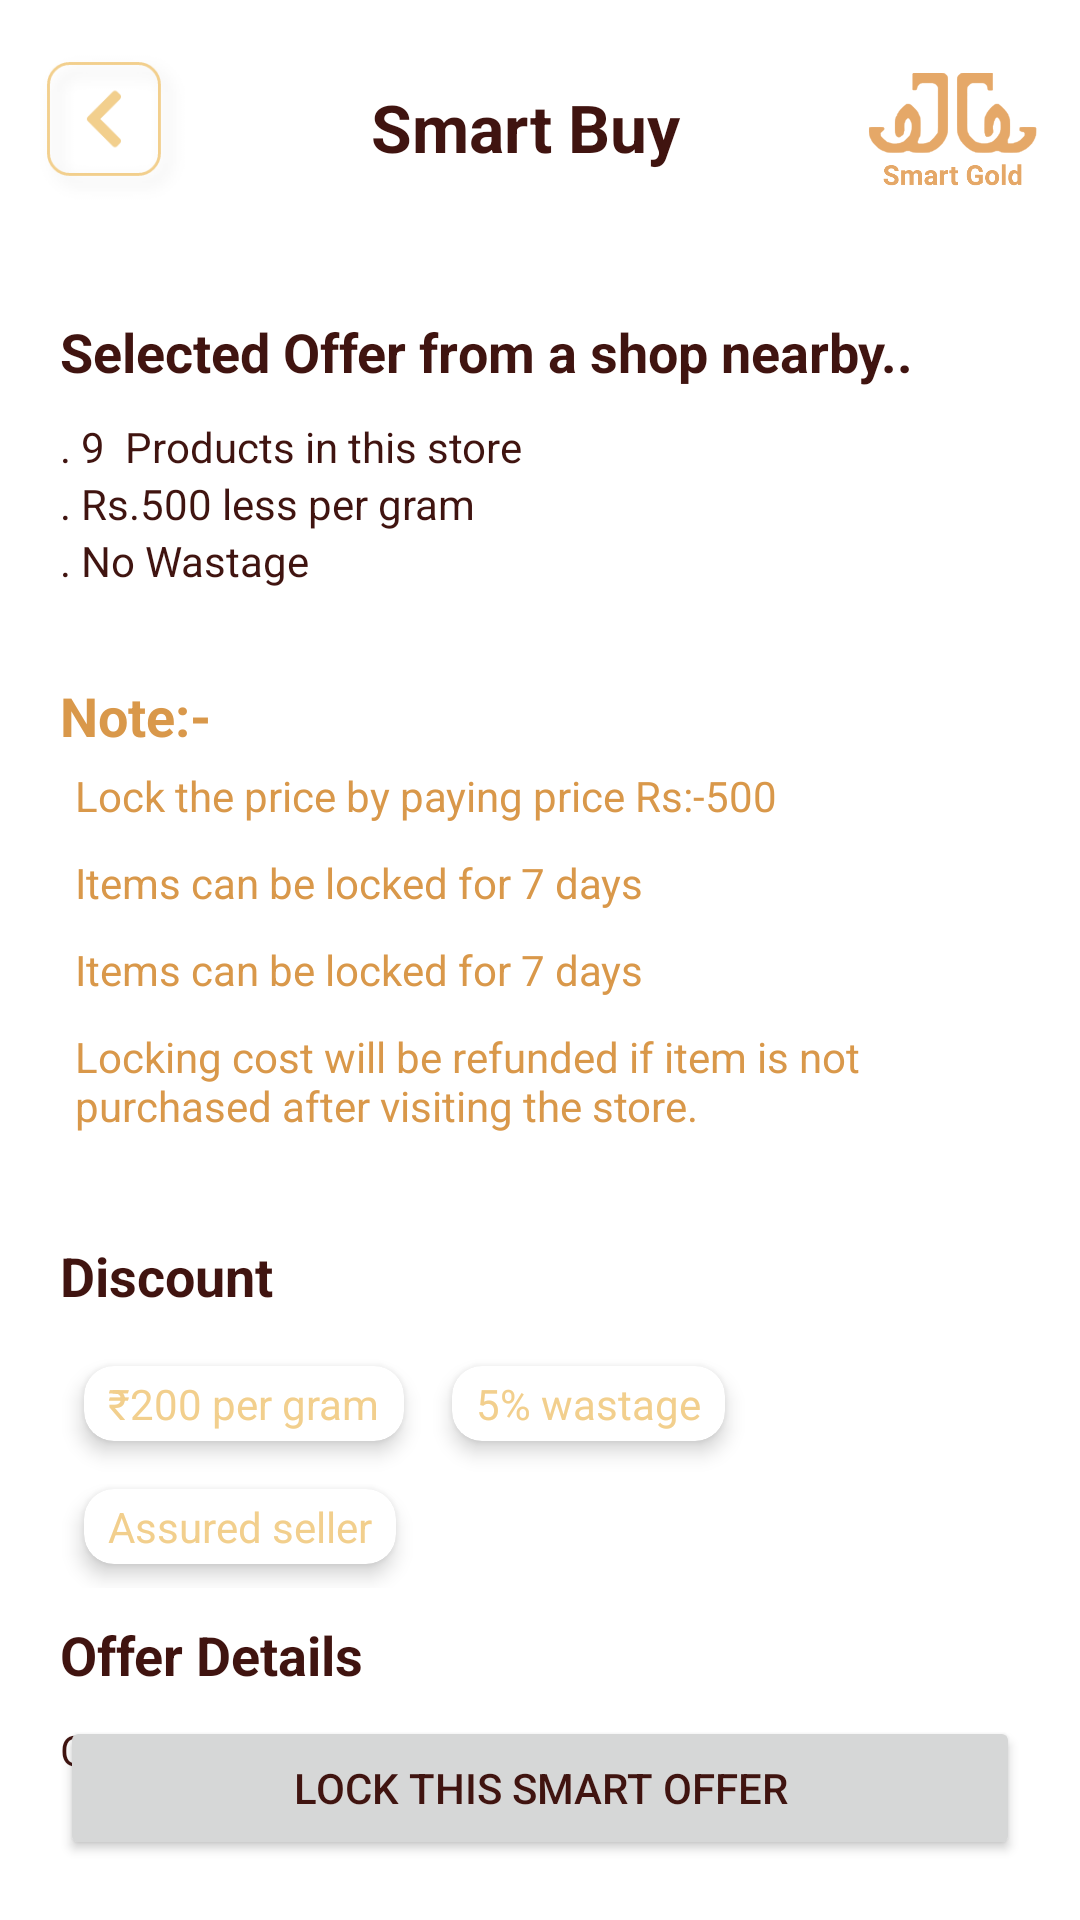

Icons on this 1080×1920 Android screen, each with the point to tap as (x,y):
backbtn: (104,119)
